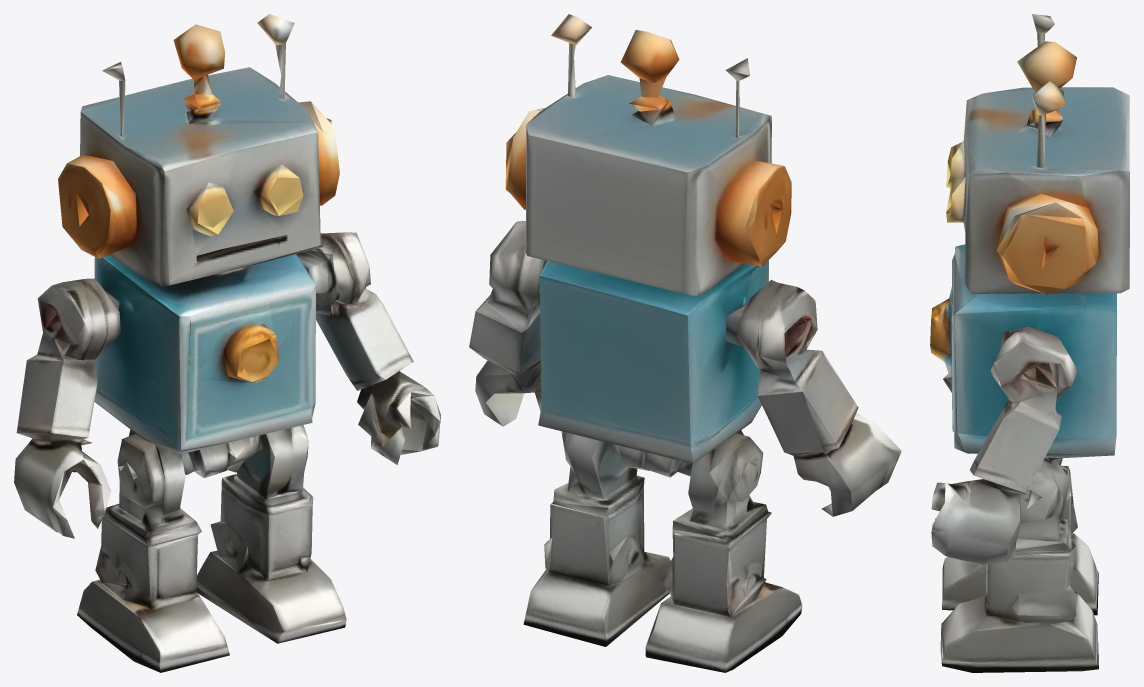
The model's file is toyRobotProp.glb.
3 renders of one model, left to right at view 1: azimuth 30°, elevation 25°; view 2: azimuth 150°, elevation 25°; view 3: azimuth 270°, elevation 25°, orthographic. The views are drawn at different scales.
Parts seen in each view (by area): view 1: model; view 2: model; view 3: model.
Boxes of the visible parts, x1,y1,x2,y2 form: model: [14, 14, 440, 672]; model: [469, 14, 901, 672]; model: [930, 14, 1129, 672].
Size of the model in its own units: 1.31 by 1.91 by 0.5916.
Materials: 1 (1 with a texture image).
